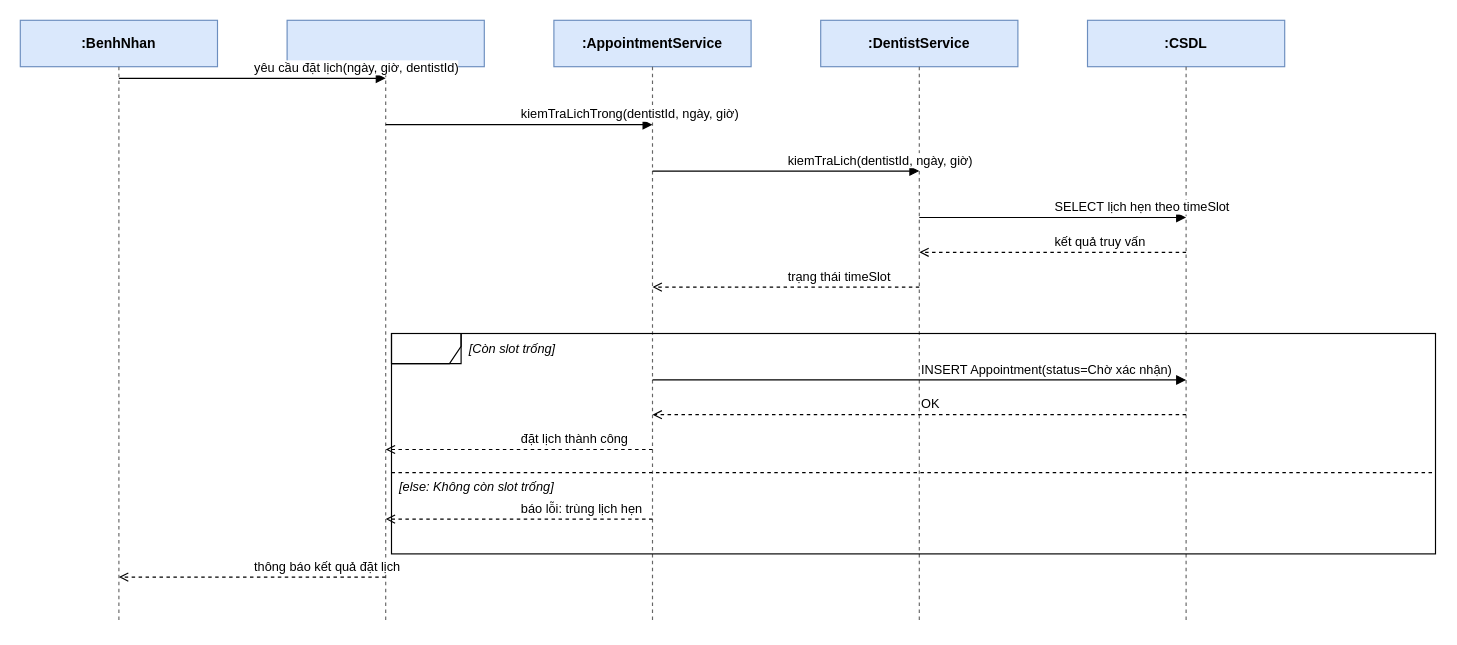
Image size: 1457x645. Some labels were removed from this diagram. The shapes that lost their labels are listed below. From the top down, each one's box as (x1, y1, x2, y2) in pixels, then its label:
(286, 19, 484, 67): :DatLichUI
(390, 332, 461, 364): alt
